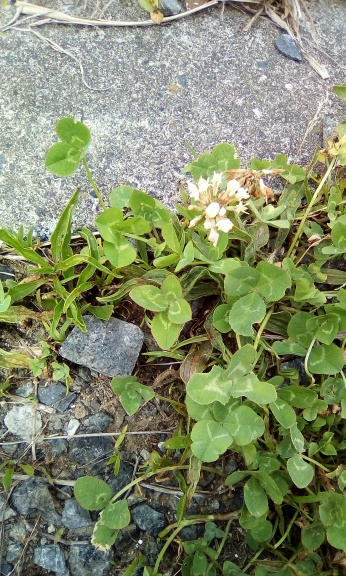4leaf: (128, 272, 193, 351)
